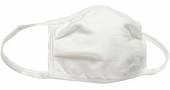cloth_mask: (4, 1, 168, 90)
